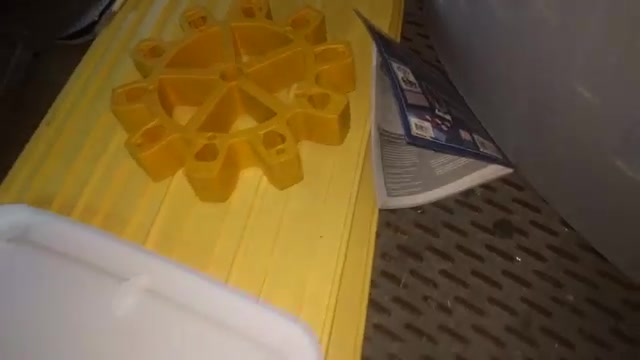gear: (92, 5, 365, 211)
